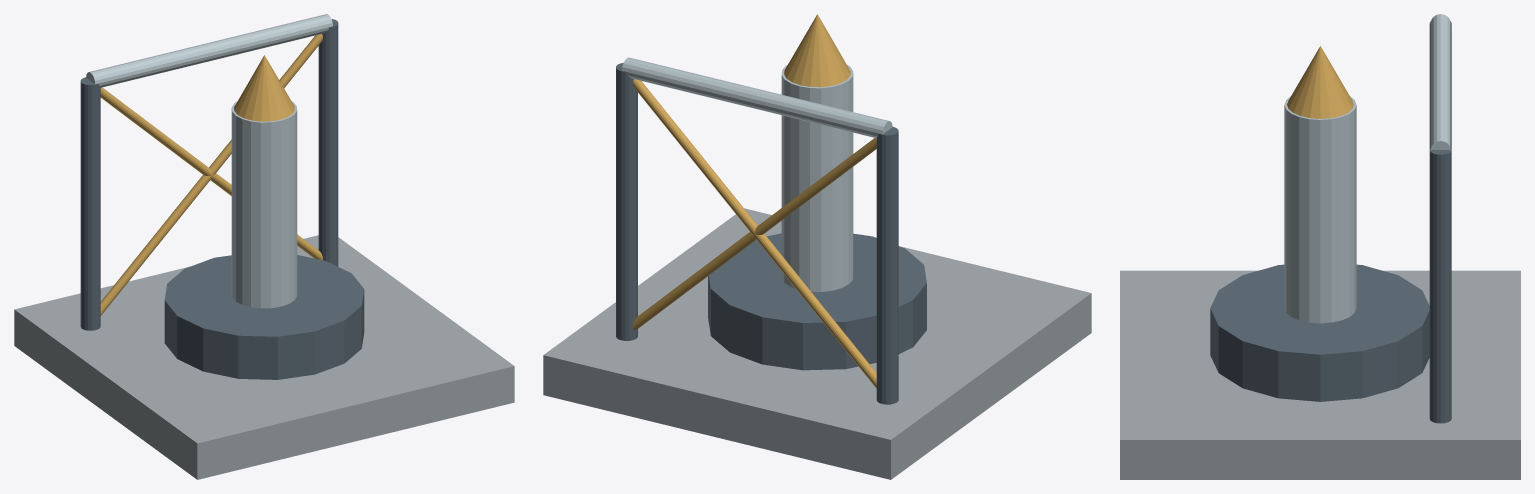
The model's file is launchpad.glb.
3 renders of one model, left to right at view 1: azimuth 30°, elevation 25°; view 2: azimuth 150°, elevation 25°; view 3: azimuth 270°, elevation 25°, orthographic. The views are drawn at different scales.
Parts seen in each view (by area): view 1: launch foundation, launch mount, launch vehicle, launch gantry, launch gantry.001, gantry upper bridge, gantry cross brace, launch nose, gantry cross brace.001; view 2: launch foundation, launch mount, launch vehicle, launch gantry, launch gantry.001, gantry upper bridge, gantry cross brace, gantry cross brace.001, launch nose; view 3: launch foundation, launch mount, launch vehicle, launch gantry.001, launch nose, gantry upper bridge, launch gantry.
Boxes of the visible parts, box(x1,y1,x2,y2) form: launch foundation: box(14, 235, 514, 479); launch mount: box(164, 255, 364, 379); launch vehicle: box(231, 101, 297, 308); launch gantry: box(80, 77, 100, 330); launch gantry.001: box(318, 19, 338, 266); gantry upper bridge: box(86, 14, 332, 87); gantry cross brace: box(100, 34, 322, 315); launch nose: box(234, 55, 294, 121); gantry cross brace.001: box(100, 87, 322, 260); launch foundation: box(543, 208, 1091, 479); launch mount: box(708, 233, 926, 370); launch vehicle: box(781, 65, 853, 291); launch gantry: box(876, 127, 898, 404); launch gantry.001: box(616, 63, 637, 340); gantry upper bridge: box(622, 57, 892, 138); gantry cross brace: box(633, 79, 876, 388); gantry cross brace.001: box(633, 138, 876, 330); launch nose: box(784, 14, 850, 87); launch foundation: box(1120, 270, 1520, 479); launch mount: box(1210, 264, 1429, 401); launch vehicle: box(1284, 96, 1356, 323); launch gantry.001: box(1429, 148, 1451, 423); launch nose: box(1287, 46, 1353, 118); gantry upper bridge: box(1430, 14, 1450, 149); launch gantry: box(1429, 21, 1451, 149).
Size of the model in its own units: 2 by 1.92 by 2.
